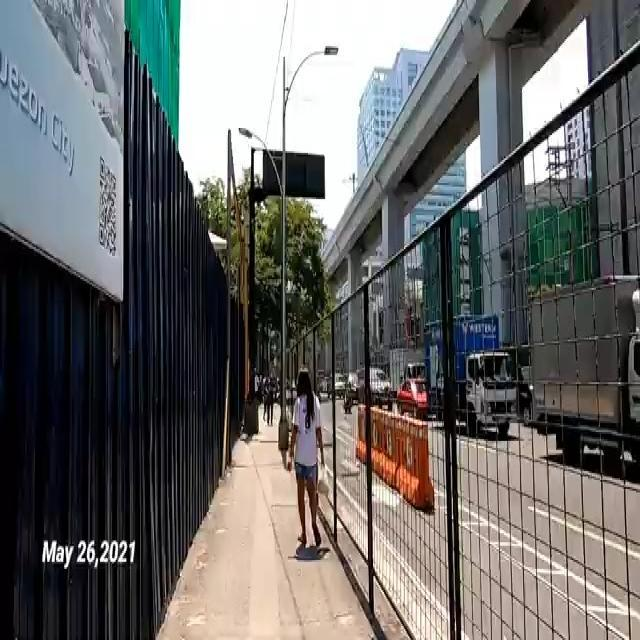car: (394, 378, 426, 422), (366, 366, 392, 409)
truck: (526, 275, 640, 473), (426, 310, 519, 440), (390, 342, 427, 397)
